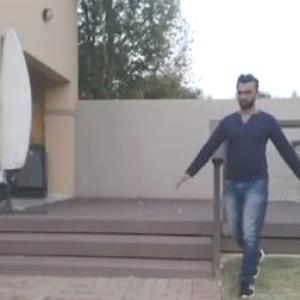land: (126, 45, 299, 299)
